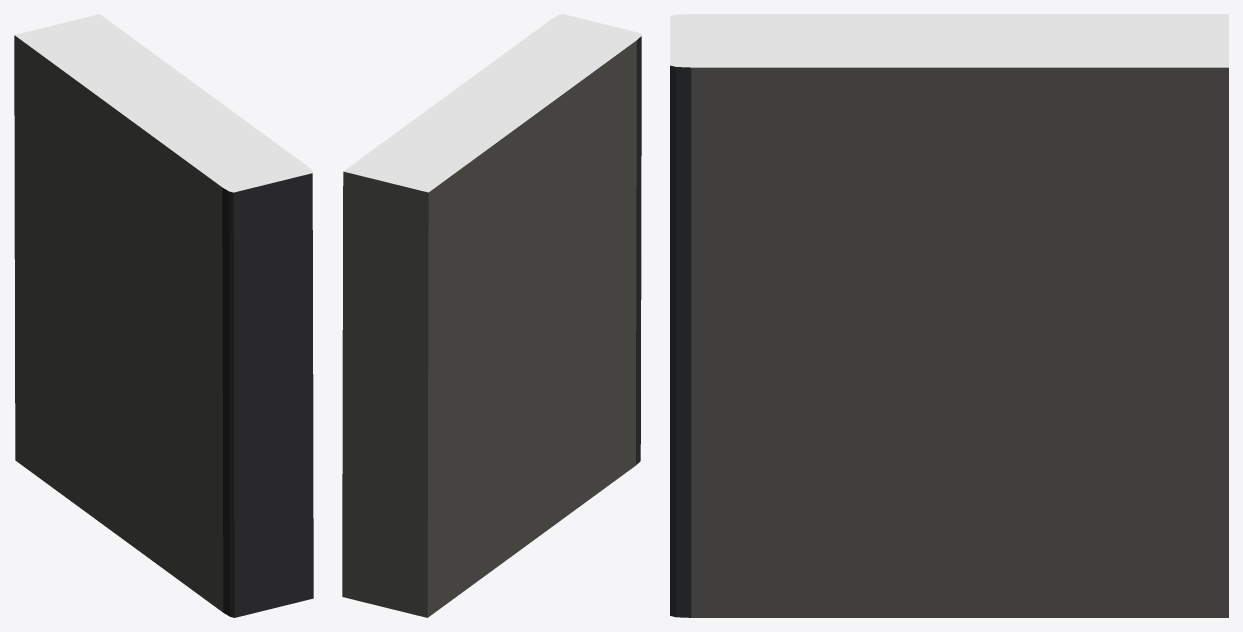
The model's file is Kitap.fbx.
3 views of the same model, side by side, from view 1: azimuth 30°, elevation 25°; view 2: azimuth 150°, elevation 25°; view 3: azimuth 270°, elevation 25° (orthographic). The views are drawn at different scales.
Visible parts, largest first — view 1: Kitap.001; view 2: Kitap.001; view 3: Kitap.001.
Boxes of the visible parts, x1,y1,x2,y2 form: Kitap.001: (14,14,313,617); Kitap.001: (342,14,641,617); Kitap.001: (670,14,1228,617).
Size of the model in its own units: 11.68 by 54.95 by 50.59.
